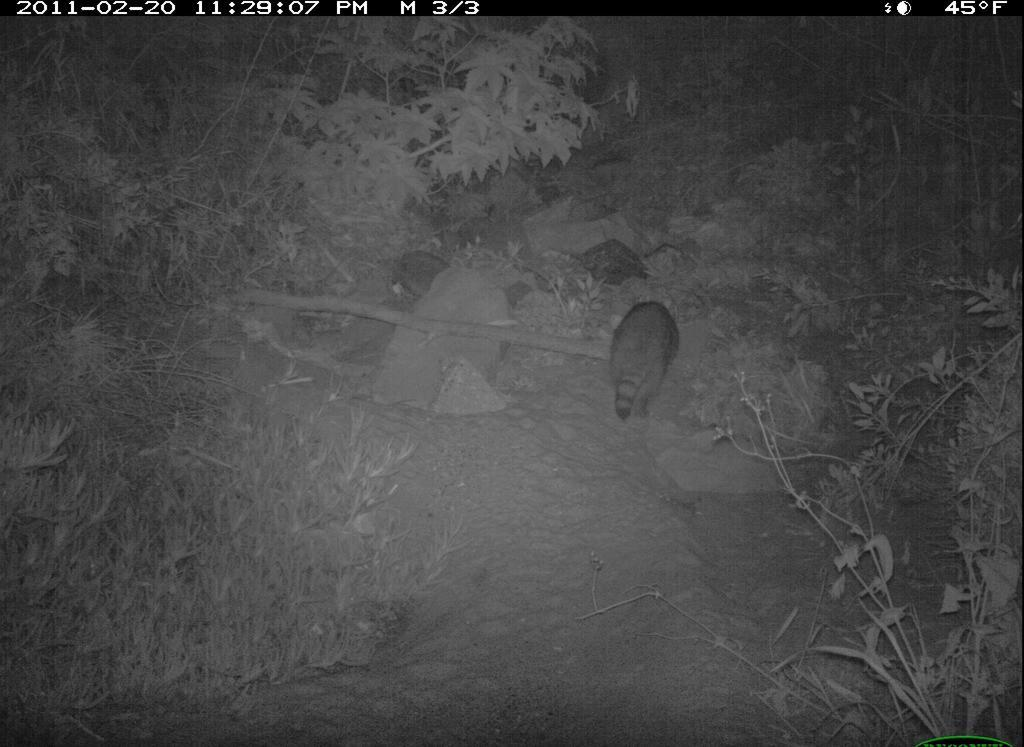raccoon: (591, 296, 692, 436)
